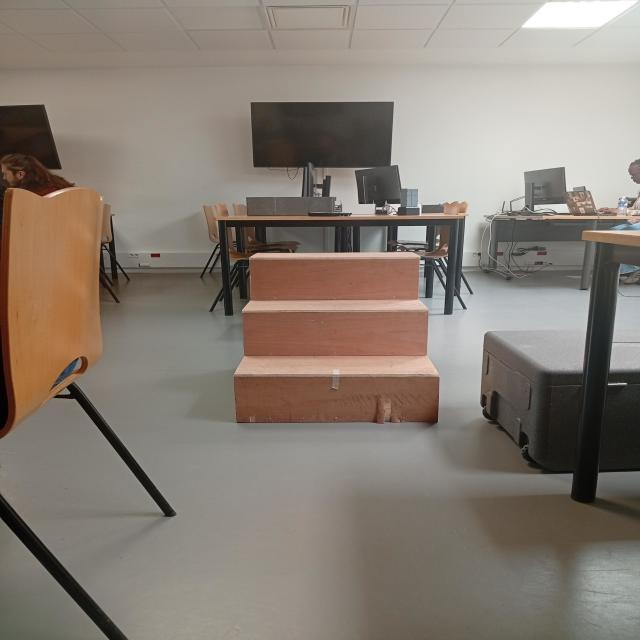Stairs: (198, 247, 476, 453)
